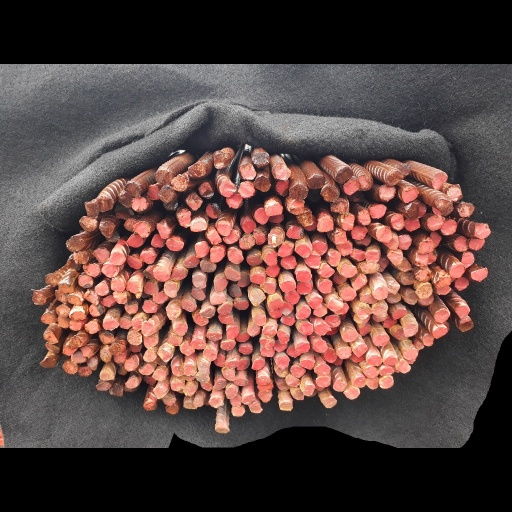dipstick: (66, 234, 84, 252), (248, 288, 266, 305), (188, 161, 205, 178), (321, 185, 338, 202), (446, 184, 462, 202), (289, 185, 308, 200), (330, 198, 349, 213), (431, 171, 447, 188), (79, 216, 97, 231), (135, 220, 150, 238), (297, 210, 313, 226), (93, 247, 109, 263), (124, 182, 141, 197), (213, 151, 228, 168), (198, 182, 213, 199), (127, 277, 142, 294), (386, 171, 403, 186), (427, 215, 444, 230), (435, 199, 452, 214), (187, 192, 201, 210), (159, 186, 174, 202), (156, 168, 171, 184), (240, 164, 256, 179), (275, 165, 291, 180), (255, 176, 271, 191), (206, 202, 221, 218), (402, 188, 418, 203), (458, 202, 474, 217), (475, 223, 490, 239), (190, 218, 207, 232), (287, 200, 304, 214), (177, 209, 190, 227), (98, 196, 113, 211), (239, 182, 254, 197), (207, 229, 222, 244), (166, 305, 181, 320), (380, 186, 395, 201), (417, 283, 432, 298), (376, 227, 391, 242), (118, 192, 132, 208), (220, 180, 234, 196), (102, 263, 118, 277), (103, 316, 119, 330), (126, 331, 142, 345), (344, 181, 360, 195), (398, 234, 412, 250), (405, 203, 419, 219), (307, 175, 324, 188), (370, 205, 387, 218), (391, 213, 404, 230), (471, 268, 488, 281), (468, 238, 485, 251), (228, 249, 243, 263), (239, 236, 254, 250), (268, 231, 282, 246), (141, 250, 156, 264), (154, 267, 169, 281), (32, 290, 46, 305), (94, 281, 109, 295), (336, 168, 351, 182), (319, 264, 334, 278), (318, 279, 332, 294), (299, 321, 313, 336), (373, 333, 388, 347), (434, 308, 449, 322), (450, 264, 465, 278), (443, 220, 457, 235), (85, 201, 98, 217), (146, 184, 159, 200), (173, 175, 186, 191), (266, 202, 282, 215), (100, 220, 113, 236), (210, 291, 226, 304), (295, 244, 311, 257), (280, 256, 296, 269), (296, 282, 312, 295), (267, 295, 283, 308), (341, 287, 357, 300), (351, 226, 367, 239), (415, 253, 428, 269), (276, 180, 288, 197), (254, 229, 266, 246), (83, 264, 100, 276), (340, 265, 357, 277), (359, 174, 371, 191), (195, 242, 209, 256), (210, 248, 224, 262), (319, 217, 333, 231), (127, 255, 141, 269), (192, 274, 206, 288), (213, 276, 227, 290), (191, 287, 205, 301), (296, 306, 310, 320), (351, 248, 365, 262), (397, 359, 411, 373), (388, 250, 402, 264), (253, 151, 268, 164), (217, 220, 230, 235), (127, 234, 142, 247), (109, 251, 124, 264), (225, 268, 240, 281), (181, 299, 196, 312), (164, 282, 177, 297), (78, 275, 93, 288), (113, 291, 128, 304), (312, 241, 327, 254), (278, 243, 293, 256), (284, 291, 299, 304), (233, 298, 248, 311), (328, 298, 343, 311), (353, 275, 366, 290), (286, 346, 301, 359), (454, 236, 467, 251), (246, 254, 262, 266), (287, 226, 303, 238), (157, 222, 169, 238), (167, 239, 183, 251), (200, 260, 216, 272), (109, 279, 125, 291), (335, 229, 347, 245), (328, 251, 340, 267), (458, 319, 474, 331), (405, 219, 421, 231), (418, 240, 434, 252), (227, 195, 241, 208), (242, 219, 255, 233), (70, 334, 83, 348), (99, 331, 113, 344), (144, 335, 158, 348), (180, 342, 194, 355), (342, 215, 355, 229), (307, 255, 320, 269), (261, 282, 275, 295), (398, 164, 411, 178), (379, 375, 393, 388), (343, 330, 357, 343), (373, 286, 387, 299), (456, 305, 470, 318), (144, 282, 159, 294), (67, 294, 82, 306), (142, 320, 154, 335), (265, 251, 277, 266), (315, 321, 327, 336), (367, 354, 382, 366), (454, 278, 469, 290), (416, 270, 431, 282), (400, 272, 415, 284), (462, 252, 474, 267), (41, 313, 57, 324), (89, 305, 105, 316), (432, 327, 448, 338), (360, 263, 379, 272), (314, 364, 331, 374), (85, 291, 98, 304), (110, 383, 123, 396), (339, 243, 352, 256), (276, 378, 289, 391), (314, 340, 327, 353), (327, 314, 340, 327), (172, 268, 186, 280), (153, 292, 167, 304), (85, 321, 99, 333), (143, 348, 155, 362), (297, 270, 311, 282), (309, 295, 323, 307), (313, 305, 327, 317), (291, 365, 305, 377), (337, 347, 351, 359), (352, 343, 366, 355), (359, 324, 373, 336), (359, 209, 370, 224), (356, 306, 371, 317), (436, 276, 451, 287), (256, 208, 266, 224), (58, 283, 74, 293), (431, 232, 441, 248), (226, 230, 238, 243), (151, 235, 164, 247), (251, 272, 264, 284), (238, 274, 250, 287), (229, 284, 241, 297), (45, 273, 58, 285), (55, 291, 67, 304), (143, 301, 156, 313), (119, 317, 132, 329), (174, 323, 187, 335), (203, 348, 216, 360), (227, 326, 239, 339), (262, 326, 275, 338), (279, 304, 292, 316), (277, 331, 290, 343), (325, 349, 337, 362), (323, 396, 336, 408), (366, 365, 379, 377), (404, 323, 416, 336), (405, 292, 418, 304), (183, 255, 197, 266), (55, 305, 69, 316), (139, 364, 153, 375), (168, 335, 182, 346), (217, 303, 231, 314), (266, 266, 280, 277), (286, 375, 300, 386), (345, 388, 359, 399), (372, 305, 386, 316), (73, 253, 88, 263), (40, 357, 55, 367), (280, 281, 295, 291), (257, 392, 272, 402), (401, 257, 411, 272), (126, 301, 138, 313), (44, 331, 56, 343), (99, 349, 111, 361), (44, 344, 60, 353), (95, 381, 111, 390), (126, 376, 138, 388), (158, 349, 170, 361), (218, 314, 234, 323), (253, 314, 265, 326), (277, 356, 289, 368), (303, 384, 315, 396), (124, 219, 135, 232), (102, 295, 115, 306), (109, 344, 122, 355), (125, 358, 136, 371), (197, 360, 208, 373), (196, 372, 209, 383), (247, 325, 260, 336), (297, 341, 310, 352), (333, 380, 346, 391), (360, 292, 373, 303), (132, 316, 142, 330), (63, 363, 77, 373), (71, 352, 85, 362), (77, 366, 91, 376), (200, 307, 214, 317), (209, 397, 223, 407), (221, 341, 235, 351), (281, 316, 295, 326), (260, 338, 274, 348), (316, 377, 330, 387), (386, 293, 400, 303), (99, 371, 114, 380), (206, 332, 221, 341), (238, 345, 253, 354), (379, 366, 394, 375), (391, 231, 398, 250), (58, 316, 69, 328), (184, 365, 196, 376), (153, 386, 164, 398), (184, 384, 196, 395), (225, 387, 237, 398), (366, 378, 378, 389), (63, 345, 76, 355), (269, 309, 282, 319), (384, 356, 397, 366), (393, 309, 406, 319), (404, 349, 417, 359), (387, 283, 400, 293), (194, 316, 208, 325), (225, 359, 239, 368), (231, 407, 245, 416), (333, 275, 347, 284), (279, 402, 293, 411), (172, 365, 183, 376), (230, 396, 241, 407), (238, 360, 249, 371), (354, 377, 365, 388), (144, 268, 154, 280), (71, 312, 86, 320), (192, 339, 204, 349), (215, 355, 225, 367), (241, 396, 256, 404), (252, 359, 264, 369), (395, 328, 405, 340), (423, 333, 433, 345), (418, 202, 426, 217), (69, 321, 82, 330), (88, 357, 97, 370), (301, 360, 314, 369), (256, 376, 270, 384), (257, 384, 273, 391), (153, 370, 165, 379), (143, 375, 155, 384), (170, 381, 182, 390), (236, 332, 248, 341), (274, 342, 286, 351), (428, 252, 437, 264), (233, 378, 248, 385), (166, 406, 179, 414), (275, 368, 288, 376), (353, 317, 370, 323), (83, 346, 92, 357), (214, 381, 225, 390), (224, 371, 235, 380), (293, 390, 304, 399), (384, 317, 393, 328), (215, 426, 229, 433), (143, 402, 155, 410), (183, 400, 195, 408), (200, 383, 212, 391), (435, 288, 451, 294), (261, 349, 274, 356), (418, 299, 433, 305), (129, 345, 141, 352), (250, 406, 262, 413), (372, 316, 386, 322), (340, 306, 349, 315), (116, 366, 126, 374), (193, 398, 203, 406), (114, 355, 125, 362), (164, 398, 175, 405), (352, 355, 364, 361), (415, 340, 423, 349), (362, 239, 370, 246)
